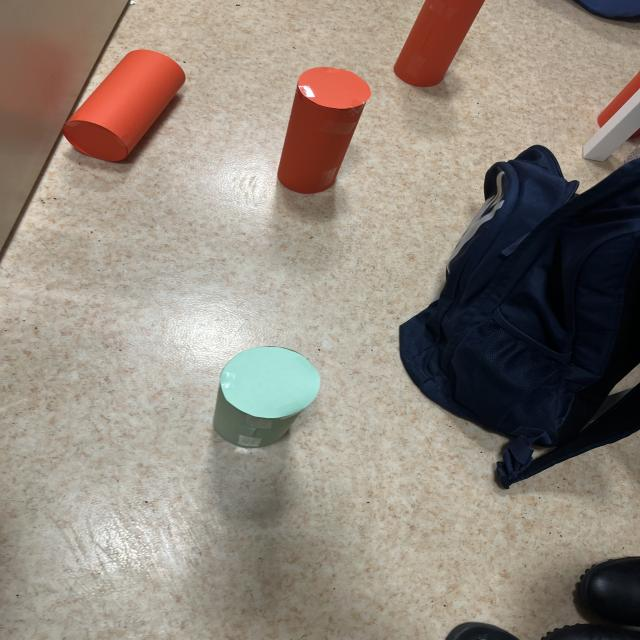meta: (213, 347, 320, 447)
przeszkoda: (62, 50, 185, 162), (277, 67, 370, 193), (394, 0, 484, 87)
